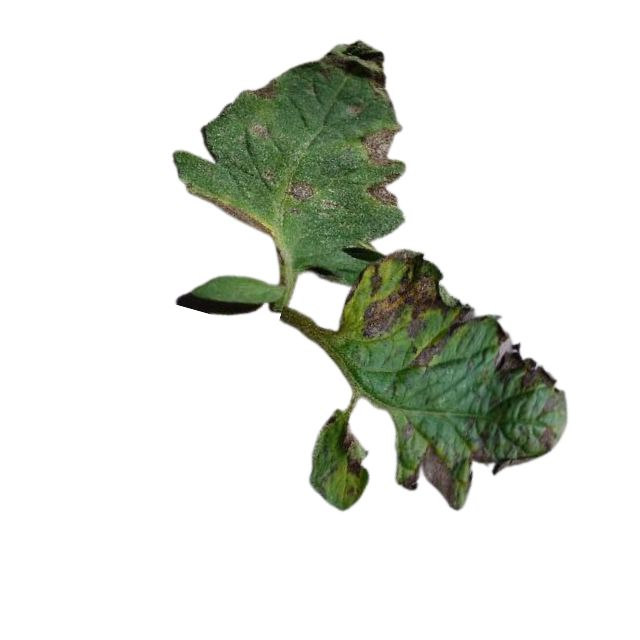Early_blight: (357, 249, 490, 367), (494, 331, 558, 393), (396, 441, 454, 506), (324, 39, 386, 85), (207, 194, 272, 236), (468, 443, 526, 475), (362, 122, 400, 168), (337, 427, 362, 475), (370, 171, 400, 206), (536, 422, 558, 451), (249, 78, 276, 100), (290, 180, 311, 204)
